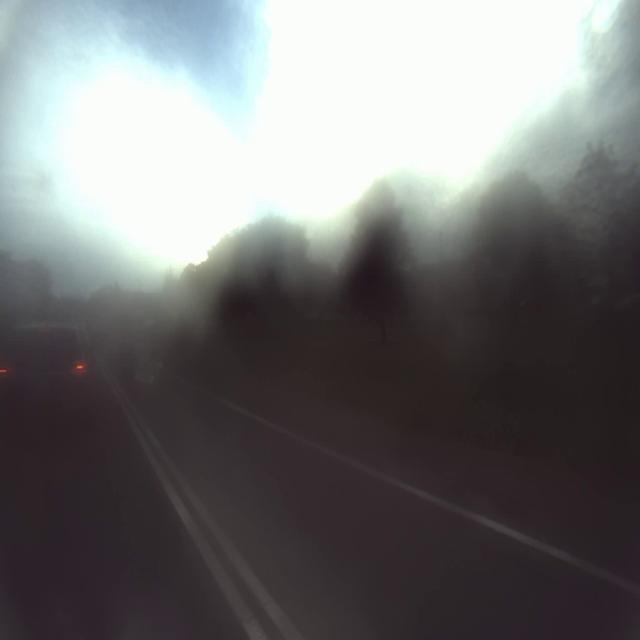car: (3, 304, 93, 433)
